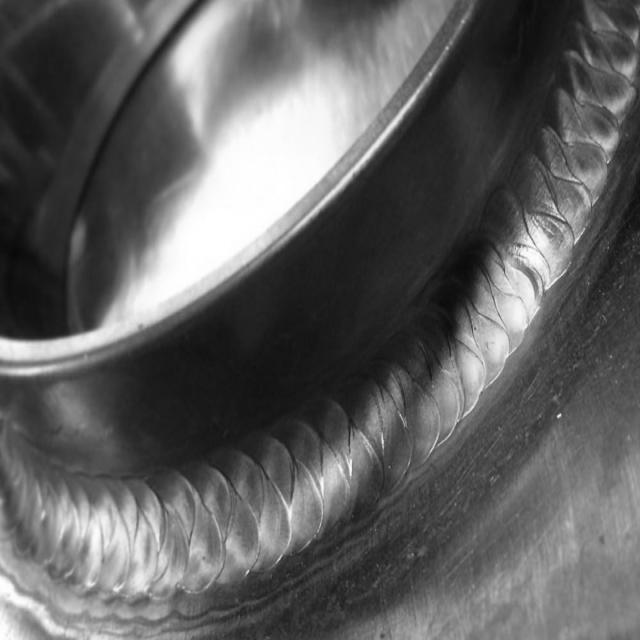Good Welding: (327, 157, 605, 502), (6, 441, 320, 624)
